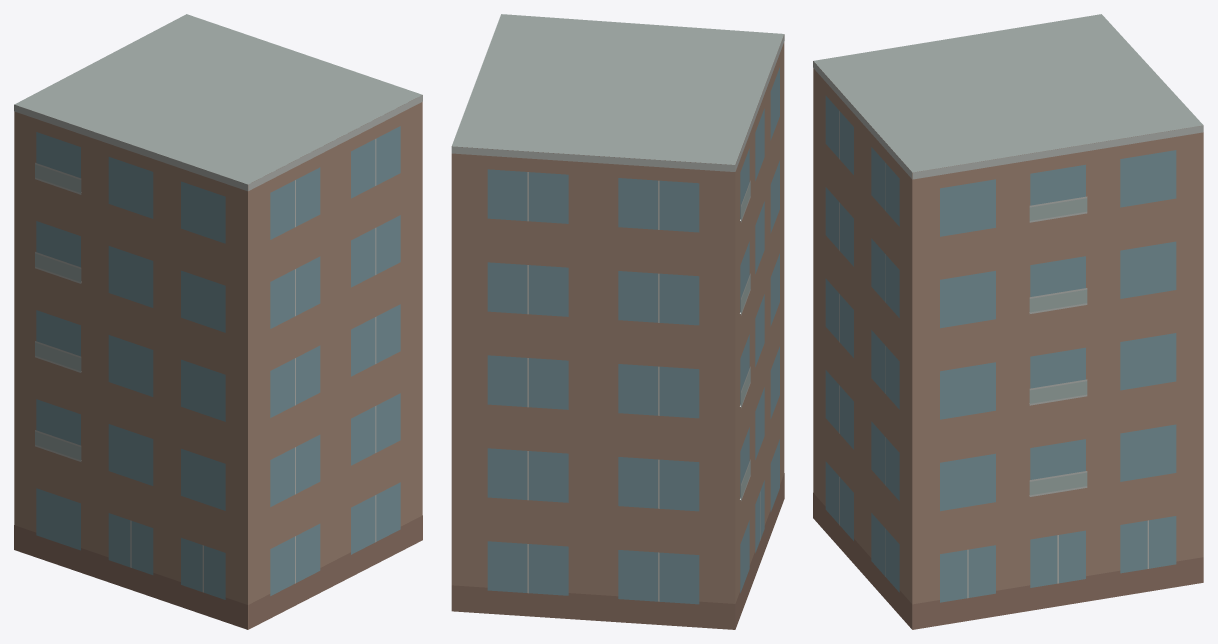
The model's file is survey-upis-32981447.glb.
The picture shows the model from 3 angles, left to right: view 1: azimuth 30°, elevation 25°; view 2: azimuth 150°, elevation 25°; view 3: azimuth 270°, elevation 25°; orthographic projection. The views are drawn at different scales.
Visible parts, largest first — view 1: survey-upis-32981447.tmp; view 2: survey-upis-32981447.tmp; view 3: survey-upis-32981447.tmp.
Part boxes in pixels (x1=…): survey-upis-32981447.tmp: x1=14, y1=14, x2=422, y2=629; survey-upis-32981447.tmp: x1=451, y1=14, x2=784, y2=629; survey-upis-32981447.tmp: x1=813, y1=14, x2=1203, y2=629.
Size of the model in its own units: 11.83 by 15.9 by 12.31.
